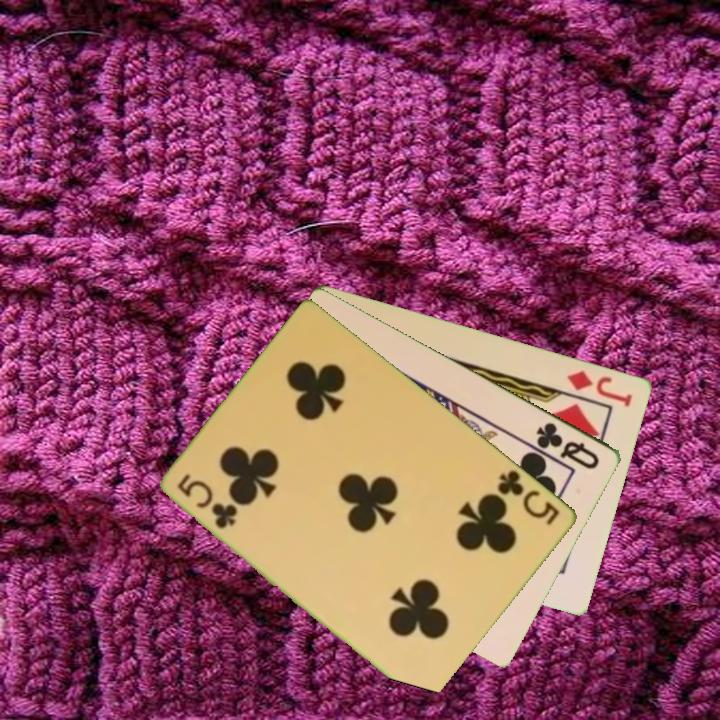5c: (494, 466, 563, 529), (174, 470, 241, 532)
Jd: (564, 366, 636, 410)
Qc: (532, 418, 603, 473)
